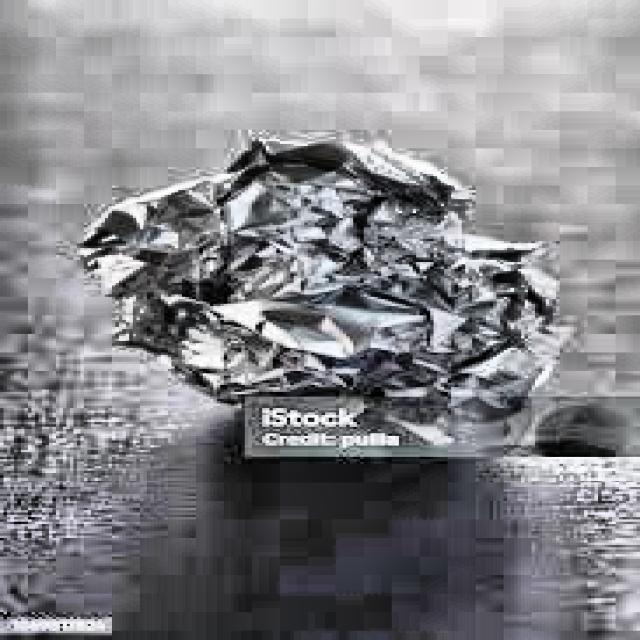Foil: (56, 120, 554, 474)
